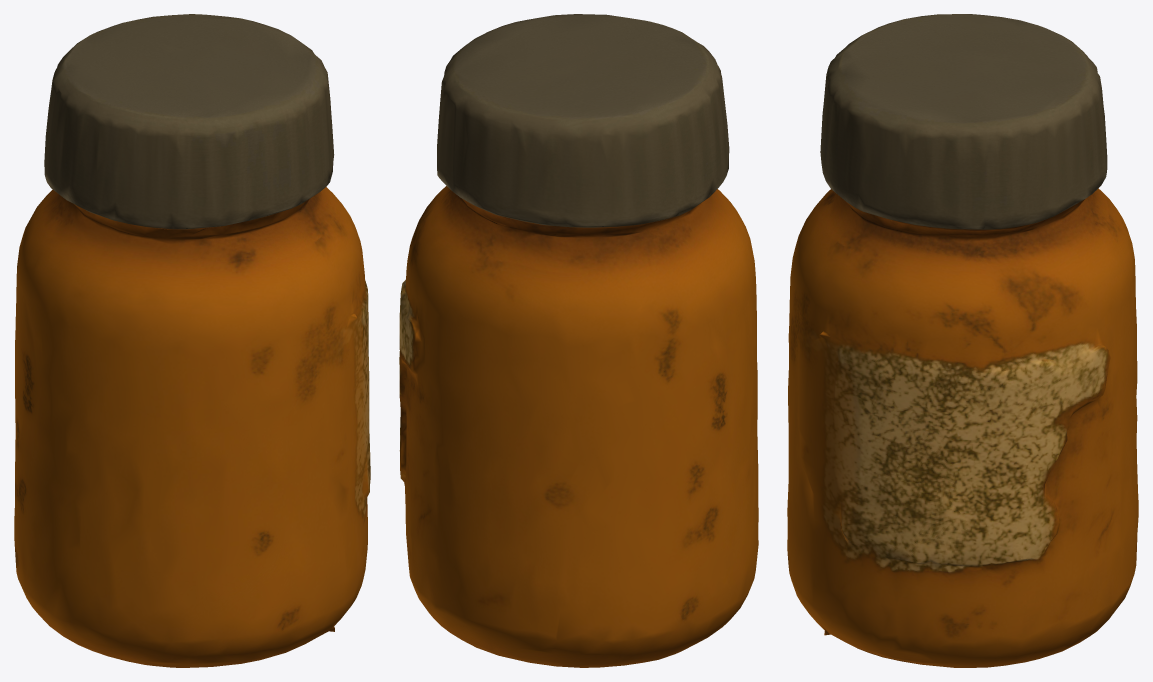
The model's file is OrangeBottle.fbx.
3 views of the same model, side by side, from view 1: azimuth 30°, elevation 25°; view 2: azimuth 150°, elevation 25°; view 3: azimuth 270°, elevation 25° (orthographic).
Parts seen in each view (by area): view 1: tripo_node_8a790969; view 2: tripo_node_8a790969; view 3: tripo_node_8a790969.
Part boxes in pixels (box(x1,y1,x2,y2)): tripo_node_8a790969: box(14, 14, 370, 667); tripo_node_8a790969: box(399, 14, 758, 667); tripo_node_8a790969: box(787, 14, 1138, 667).
Bounding box in the file's own units: 0.5849 × 0.9999 × 0.5768.
1 material, 1 textured.
